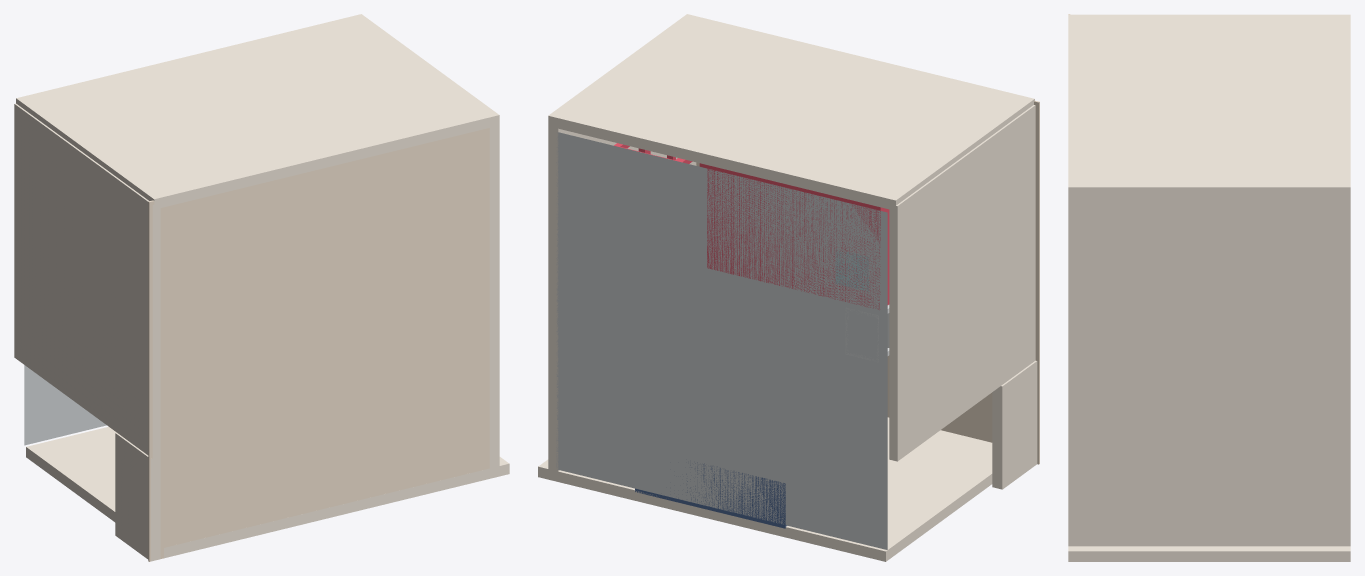
The model's file is tinker.glb.
3 renders of one model, left to right at view 1: azimuth 30°, elevation 25°; view 2: azimuth 150°, elevation 25°; view 3: azimuth 270°, elevation 25°, orthographic. The views are drawn at different scales.
Visible parts, largest first — view 1: g_group_15_16768698, g_group_9_16772050, g_group_10_16772050, g_group_11_16772050, g_group_8_16772050, g_group_12_16772050, g_group_14_12568524; view 2: g_group_14_12568524, g_group_9_16772050, g_group_10_16772050, g_group_11_16772050, g_group_0_15277357, g_group_8_16772050, g_group_12_16772050, g_group_15_16768698, g_group_7_1650274, g_group_1_7720667; view 3: g_group_8_16772050, g_group_9_16772050, g_group_11_16772050.
Part boxes in pixels (x1,y1,x2,y2): g_group_15_16768698: (148,128,489,561); g_group_9_16772050: (16,14,499,209); g_group_10_16772050: (14,103,160,458); g_group_11_16772050: (26,426,509,558); g_group_8_16772050: (352,14,499,477); g_group_12_16772050: (115,433,160,561); g_group_14_12568524: (24,365,106,445); g_group_14_12568524: (556,132,887,549); g_group_9_16772050: (548,14,1034,210); g_group_10_16772050: (889,105,1035,461); g_group_11_16772050: (538,417,992,561); g_group_0_15277357: (707,165,889,309); g_group_8_16772050: (548,14,696,481); g_group_12_16772050: (992,360,1037,489); g_group_15_16768698: (696,100,1039,464); g_group_7_1650274: (635,462,786,528); g_group_1_7720667: (835,249,868,291); g_group_8_16772050: (1068,182,1350,546); g_group_9_16772050: (1068,14,1350,197); g_group_11_16772050: (1068,546,1350,561).
Size of the model in its own units: 217 by 208 by 144.
